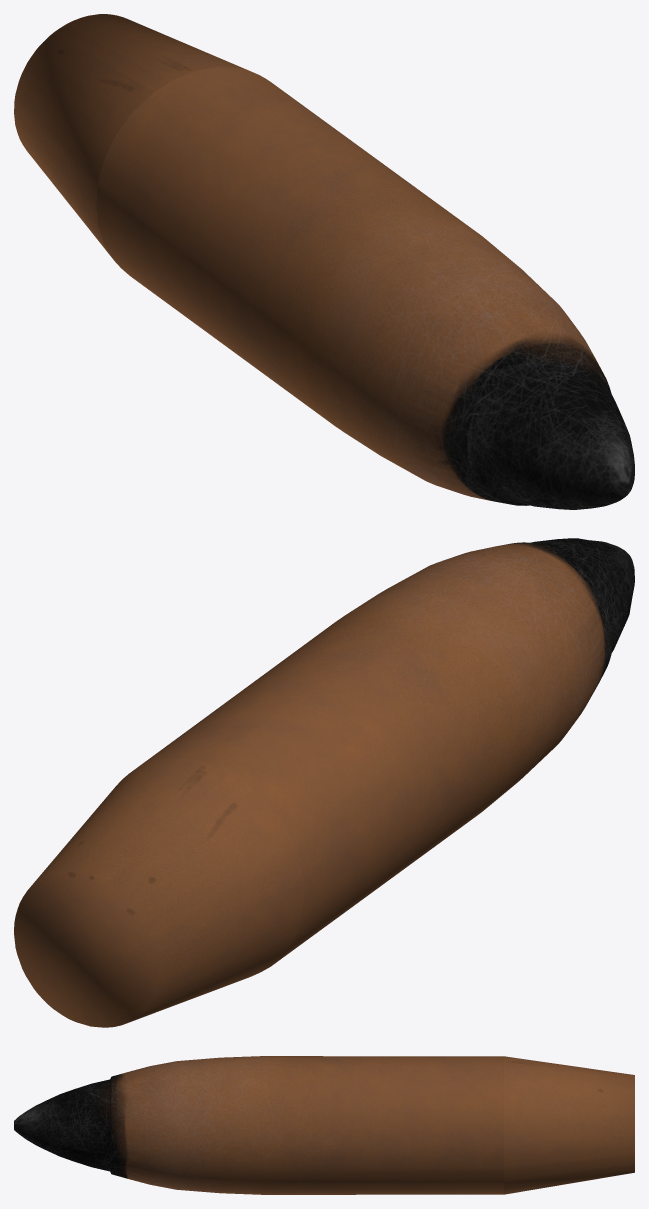
Rendered from ammo2.glb.
The picture shows the model from 3 angles, top to bottom: view 1: azimuth 30°, elevation 25°; view 2: azimuth 150°, elevation 25°; view 3: azimuth 270°, elevation 25°; orthographic projection. The views are drawn at different scales.
Parts seen in each view (by area): view 1: Bullet; view 2: Bullet; view 3: Bullet.
Boxes of the visible parts, x1,y1,x2,y2 form: Bullet: (14,14,634,509); Bullet: (14,538,634,1027); Bullet: (14,1056,634,1194).
Bounding box in the file's own units: 0.0204 × 0.0204 × 0.0913.
1 material, 1 textured.
